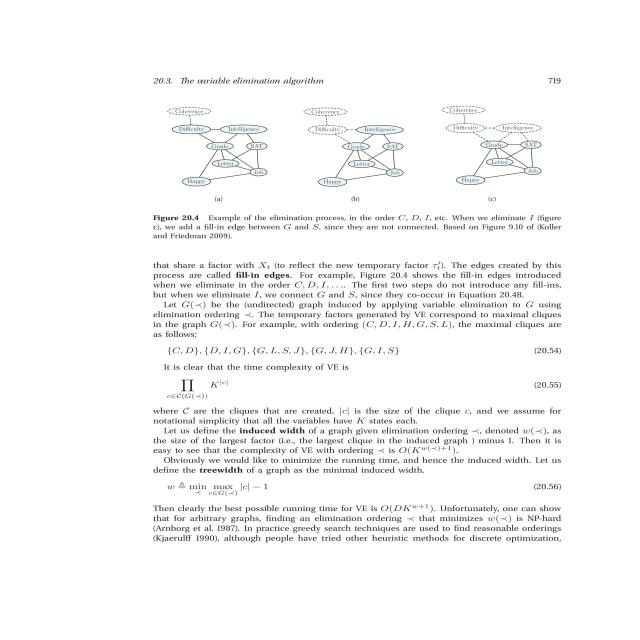diagram: (120, 97, 640, 242)
